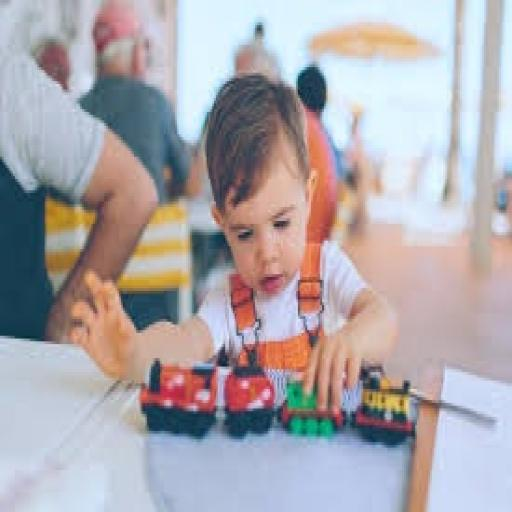baby: (71, 73, 396, 414)
